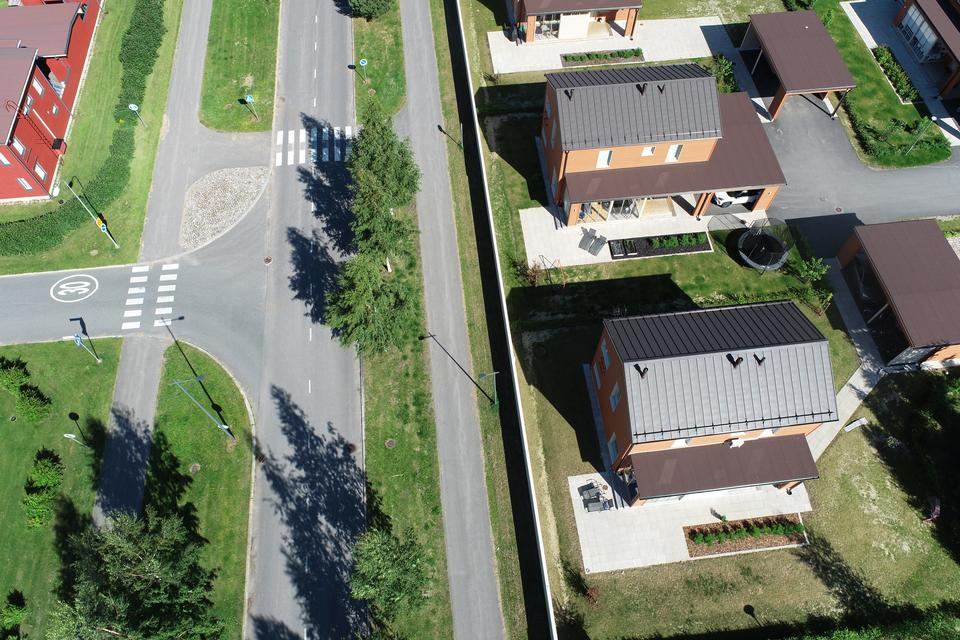intersection: (65, 239, 396, 402), (137, 97, 461, 206)
